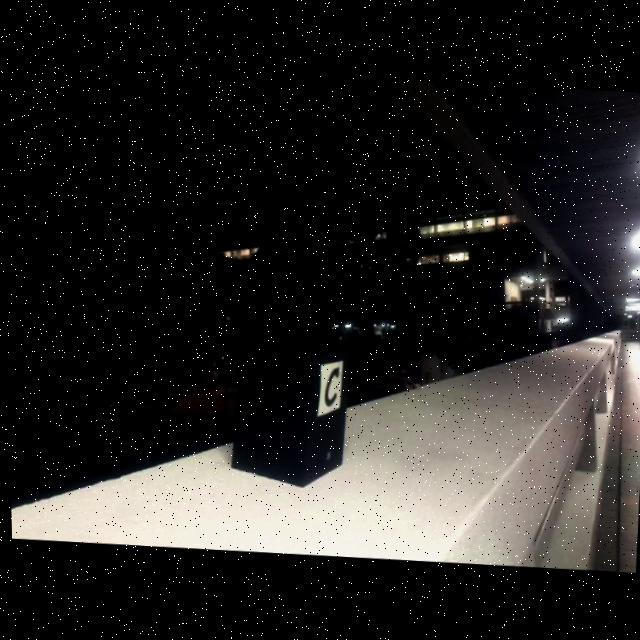C: (321, 368, 337, 408)
